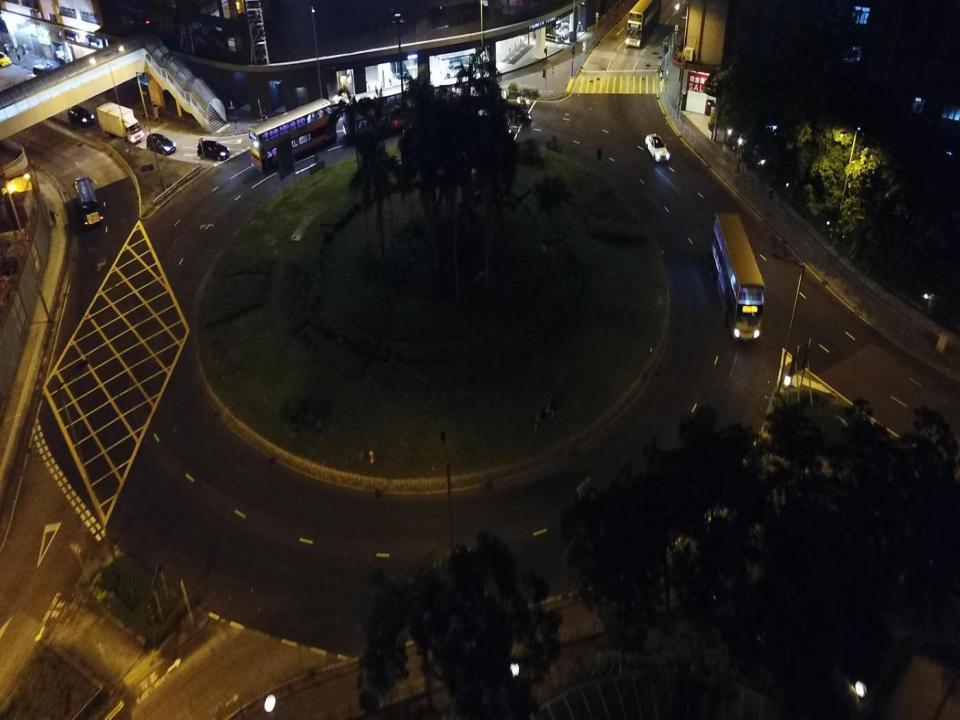bus: (711, 211, 767, 345), (248, 97, 337, 171), (342, 80, 431, 142), (625, 0, 660, 48), (73, 176, 103, 229)
car: (645, 133, 670, 162), (146, 132, 176, 154), (197, 141, 229, 161), (68, 104, 94, 127), (440, 62, 472, 78), (0, 50, 12, 68)
truck: (97, 102, 144, 142)
